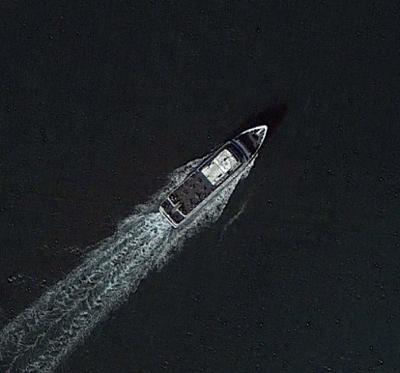Ships: (152, 119, 274, 229)
